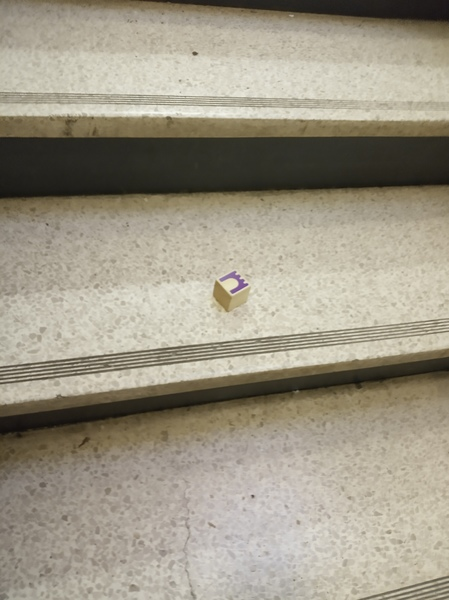violet: (213, 271, 253, 311)
